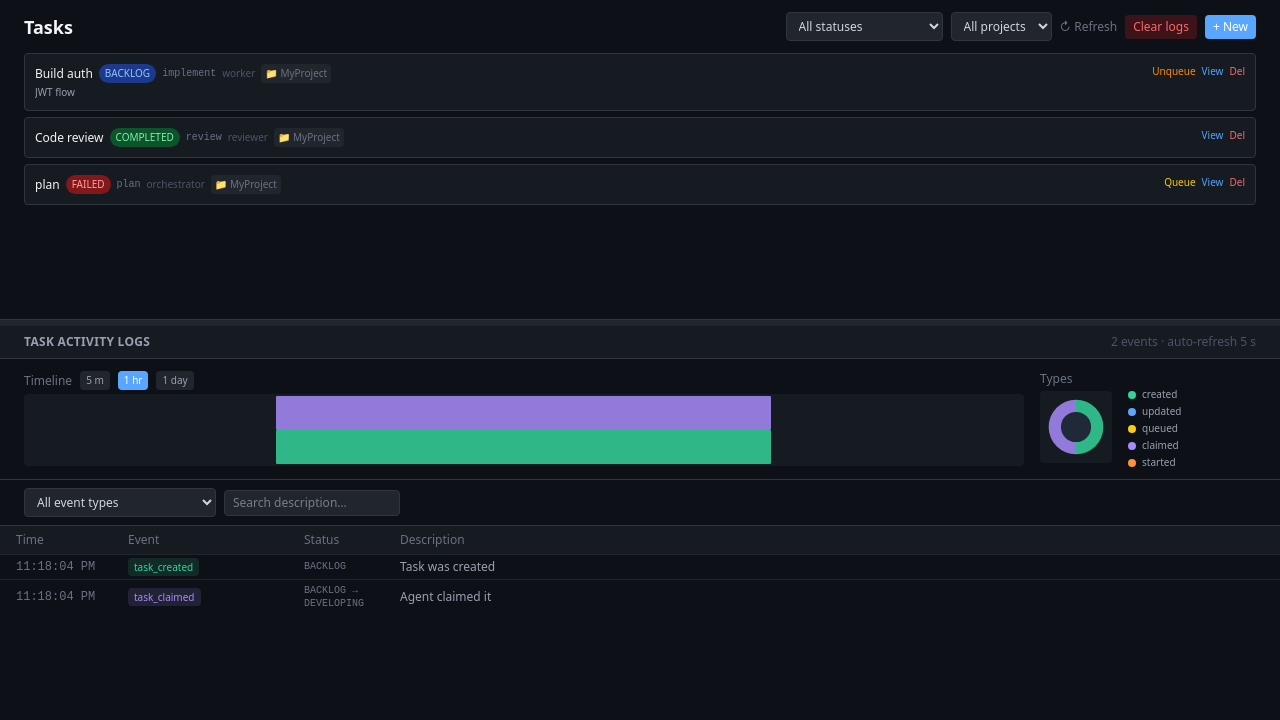
Test: Tasks — task selection › shows "Filtered to task" chip when a task row is clicked
The width and height of the screenshot is (1280, 720).
Expected: the button "Build auth" is shown, [35,66,93,82]
Click the text "Build auth" at (640, 82), box [24,53,1256,111]
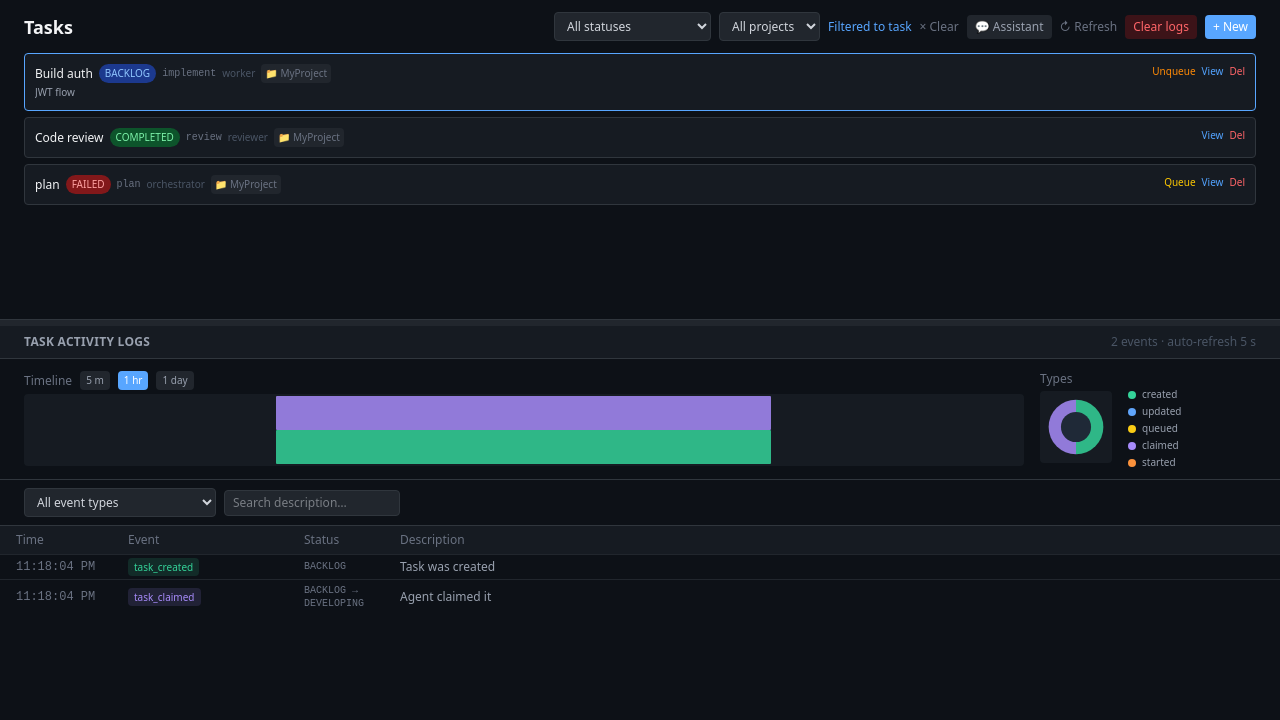
Now the text "Filtered to task" is shown, box [828,18,912,34]
